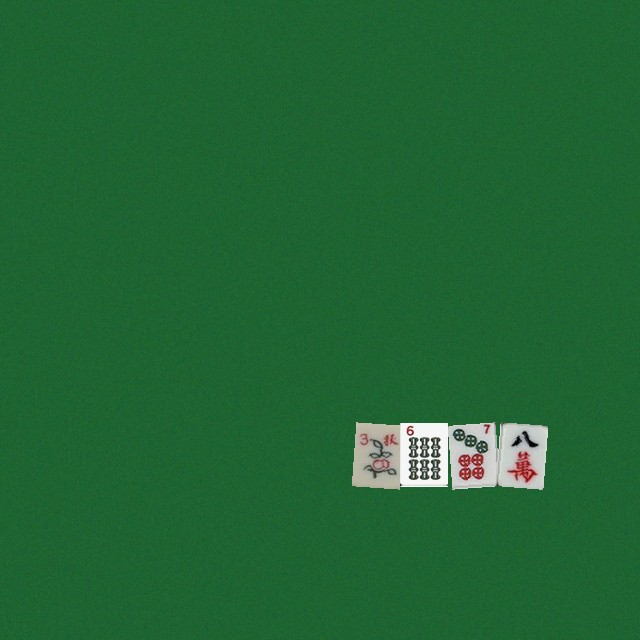tile: (351, 422, 399, 486), (399, 422, 447, 486), (447, 422, 495, 486), (495, 422, 543, 486)
